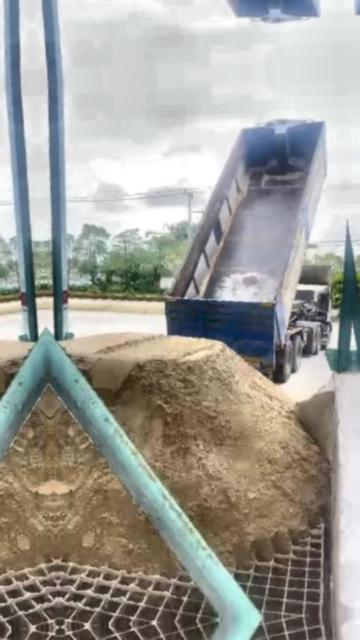sand: (63, 334, 327, 564), (49, 392, 176, 573), (295, 382, 338, 465)
